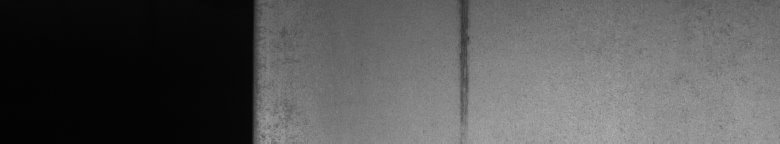hd: (452, 4, 476, 126)
